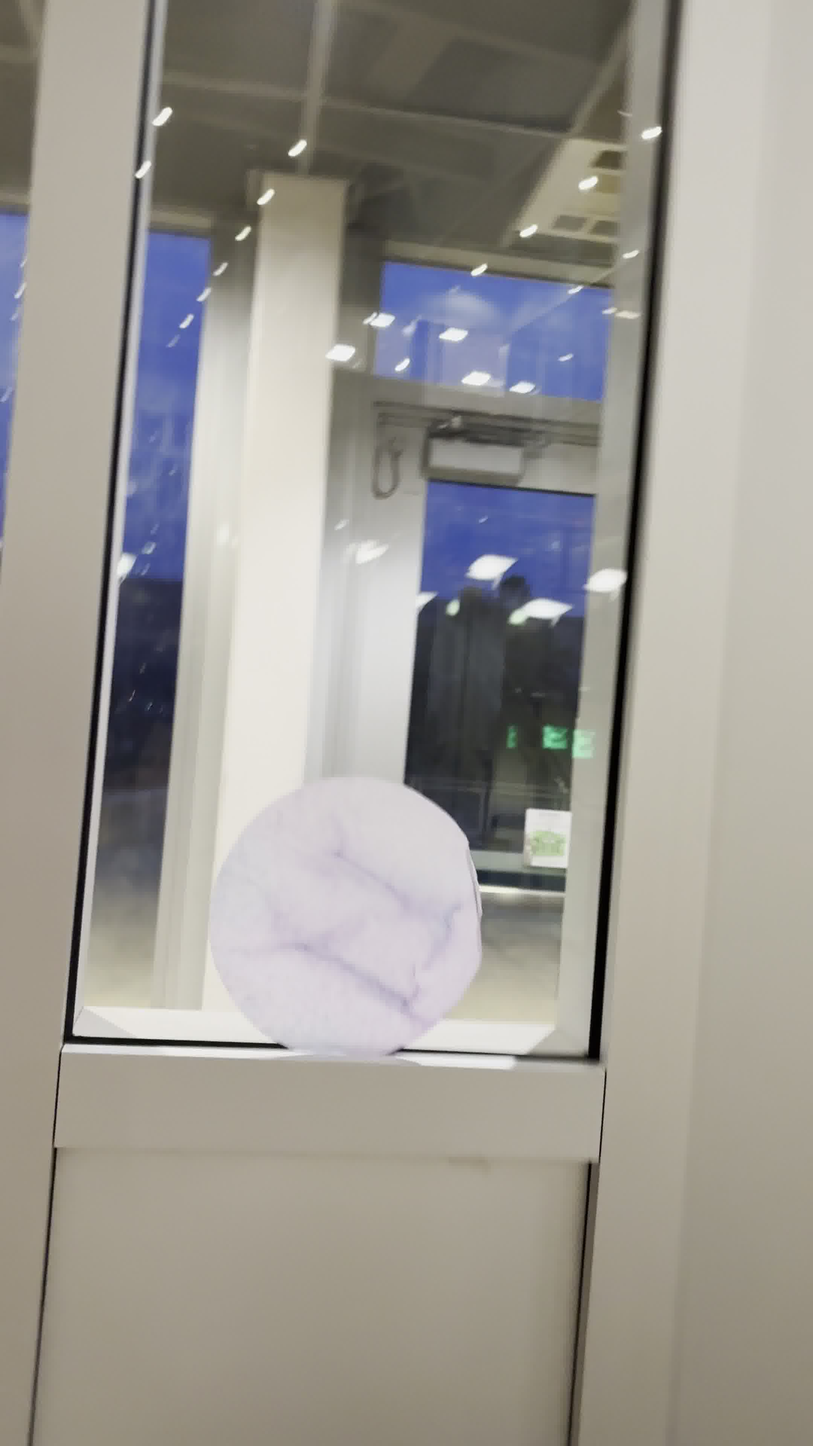Target: (203, 775, 489, 1063)
